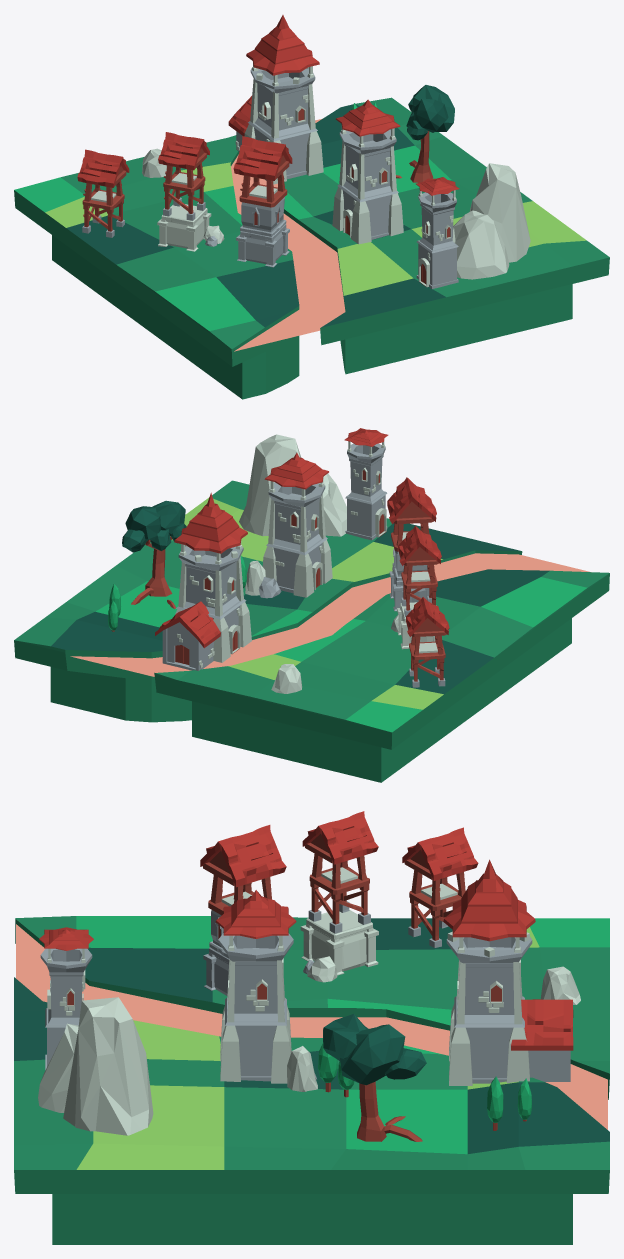
Rendered from concept_td.fbx.
The picture shows the model from 3 angles, top to bottom: view 1: azimuth 30°, elevation 25°; view 2: azimuth 150°, elevation 25°; view 3: azimuth 270°, elevation 25°; orthographic projection. The views are drawn at different scales.
Visible parts, largest first — view 1: Cube, Cube.120, Cube.150, Cube.123, Cube.122, Cube.151, Rock_3.002, Cube.121, Rock_2.001, Leaf.002, Leaf.003, Cylinder (+1 smaller); view 2: Cube, Cube.120, Cube.150, Cube.151, Cube.123, Cube.122, Rock_3.002, Cube.121, Rock_2.001, Leaf.003, Cylinder, Leaf.002 (+2 smaller); view 3: Cube, Cube.120, Cube.150, Rock_3.002, Cube.122, Cube.123, Cube.121, Cube.151, Leaf.003, Rock_2.001, Leaf.002, Cylinder (+6 smaller).
Part boxes in pixels (x1=…): Cube: x1=14, y1=97, x2=609, y2=399; Cube.120: x1=228, y1=15, x2=323, y2=184; Cube.150: x1=332, y1=99, x2=403, y2=244; Cube.123: x1=233, y1=136, x2=292, y2=267; Cube.122: x1=157, y1=132, x2=211, y2=251; Cube.151: x1=416, y1=177, x2=459, y2=288; Rock_3.002: x1=469, y1=163, x2=530, y2=262; Cube.121: x1=77, y1=149, x2=129, y2=237; Rock_2.001: x1=452, y1=210, x2=509, y2=279; Leaf.002: x1=414, y1=98, x2=448, y2=132; Leaf.003: x1=412, y1=85, x2=454, y2=131; Cylinder: x1=410, y1=131, x2=433, y2=182; Cube: x1=14, y1=480, x2=609, y2=782; Cube.120: x1=155, y1=492, x2=251, y2=670; Cube.150: x1=262, y1=452, x2=332, y2=597; Cube.151: x1=344, y1=428, x2=388, y2=540; Cube.123: x1=387, y1=477, x2=436, y2=611; Cube.122: x1=397, y1=525, x2=441, y2=649; Rock_3.002: x1=239, y1=434, x2=301, y2=536; Cube.121: x1=406, y1=597, x2=449, y2=687; Rock_2.001: x1=322, y1=469, x2=346, y2=536; Leaf.003: x1=125, y1=506, x2=160, y2=541; Cylinder: x1=145, y1=536, x2=172, y2=596; Leaf.002: x1=152, y1=500, x2=185, y2=536; Cube: x1=14, y1=916, x2=609, y2=1244; Cube.120: x1=443, y1=859, x2=573, y2=1085; Cube.150: x1=215, y1=890, x2=296, y2=1083; Rock_3.002: x1=63, y1=997, x2=153, y2=1135; Cube.122: x1=300, y1=811, x2=378, y2=975; Cube.123: x1=200, y1=825, x2=286, y2=995; Cube.121: x1=402, y1=827, x2=478, y2=947; Cube.151: x1=39, y1=927, x2=93, y2=1069; Leaf.003: x1=340, y1=1024, x2=405, y2=1085; Rock_2.001: x1=38, y1=1023, x2=78, y2=1112; Leaf.002: x1=323, y1=1014, x2=368, y2=1061; Cylinder: x1=357, y1=1081, x2=386, y2=1141.
Bounding box in the file's own units: 1388 × 781 × 1388.
